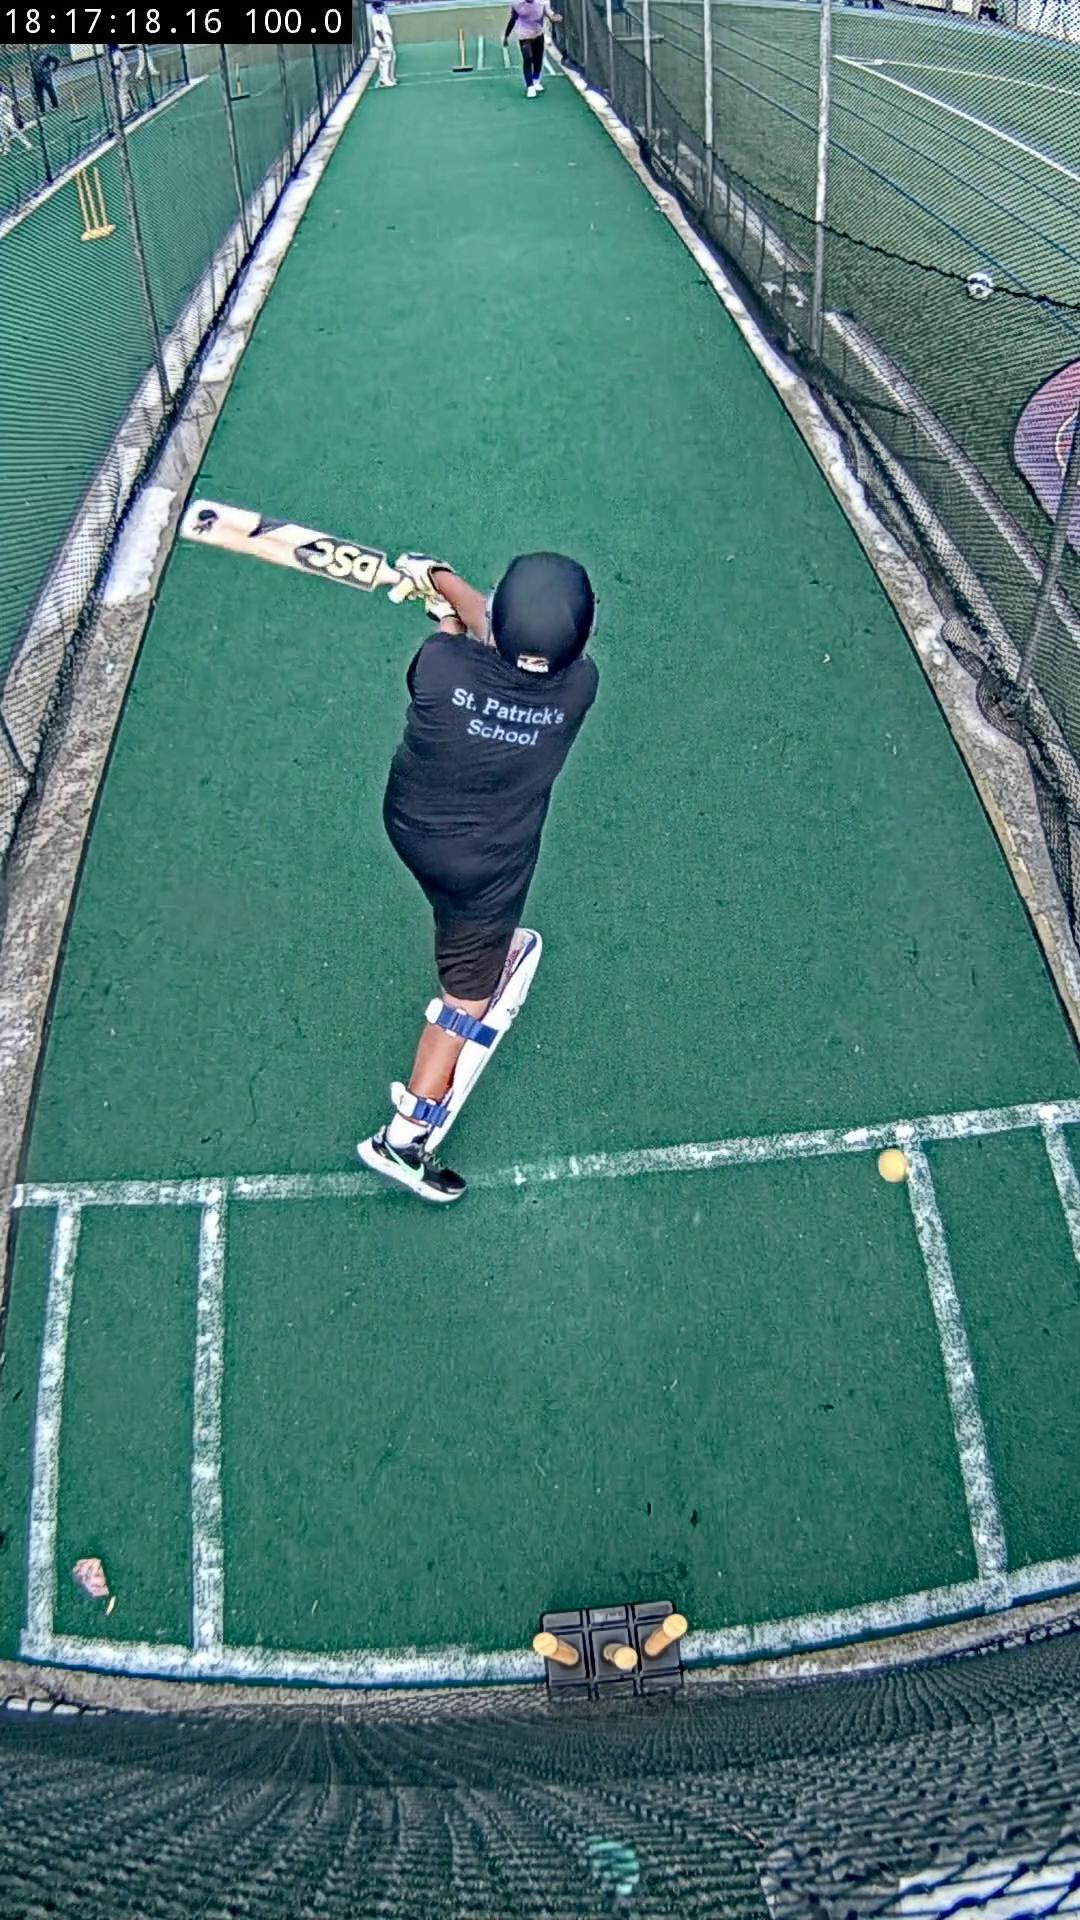ball: (877, 1147, 907, 1183)
bat: (179, 498, 401, 588)
gloves: (386, 551, 458, 622)
helmet: (492, 551, 596, 675)
pads: (423, 926, 543, 1151)
stumps: (533, 1601, 686, 1697)
